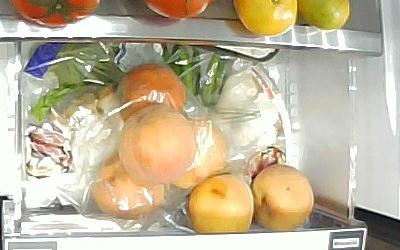peach: (120, 106, 195, 181), (252, 161, 314, 231), (186, 174, 254, 234)
peach_vinyl: (90, 153, 163, 218), (176, 119, 228, 190), (118, 64, 185, 119)
